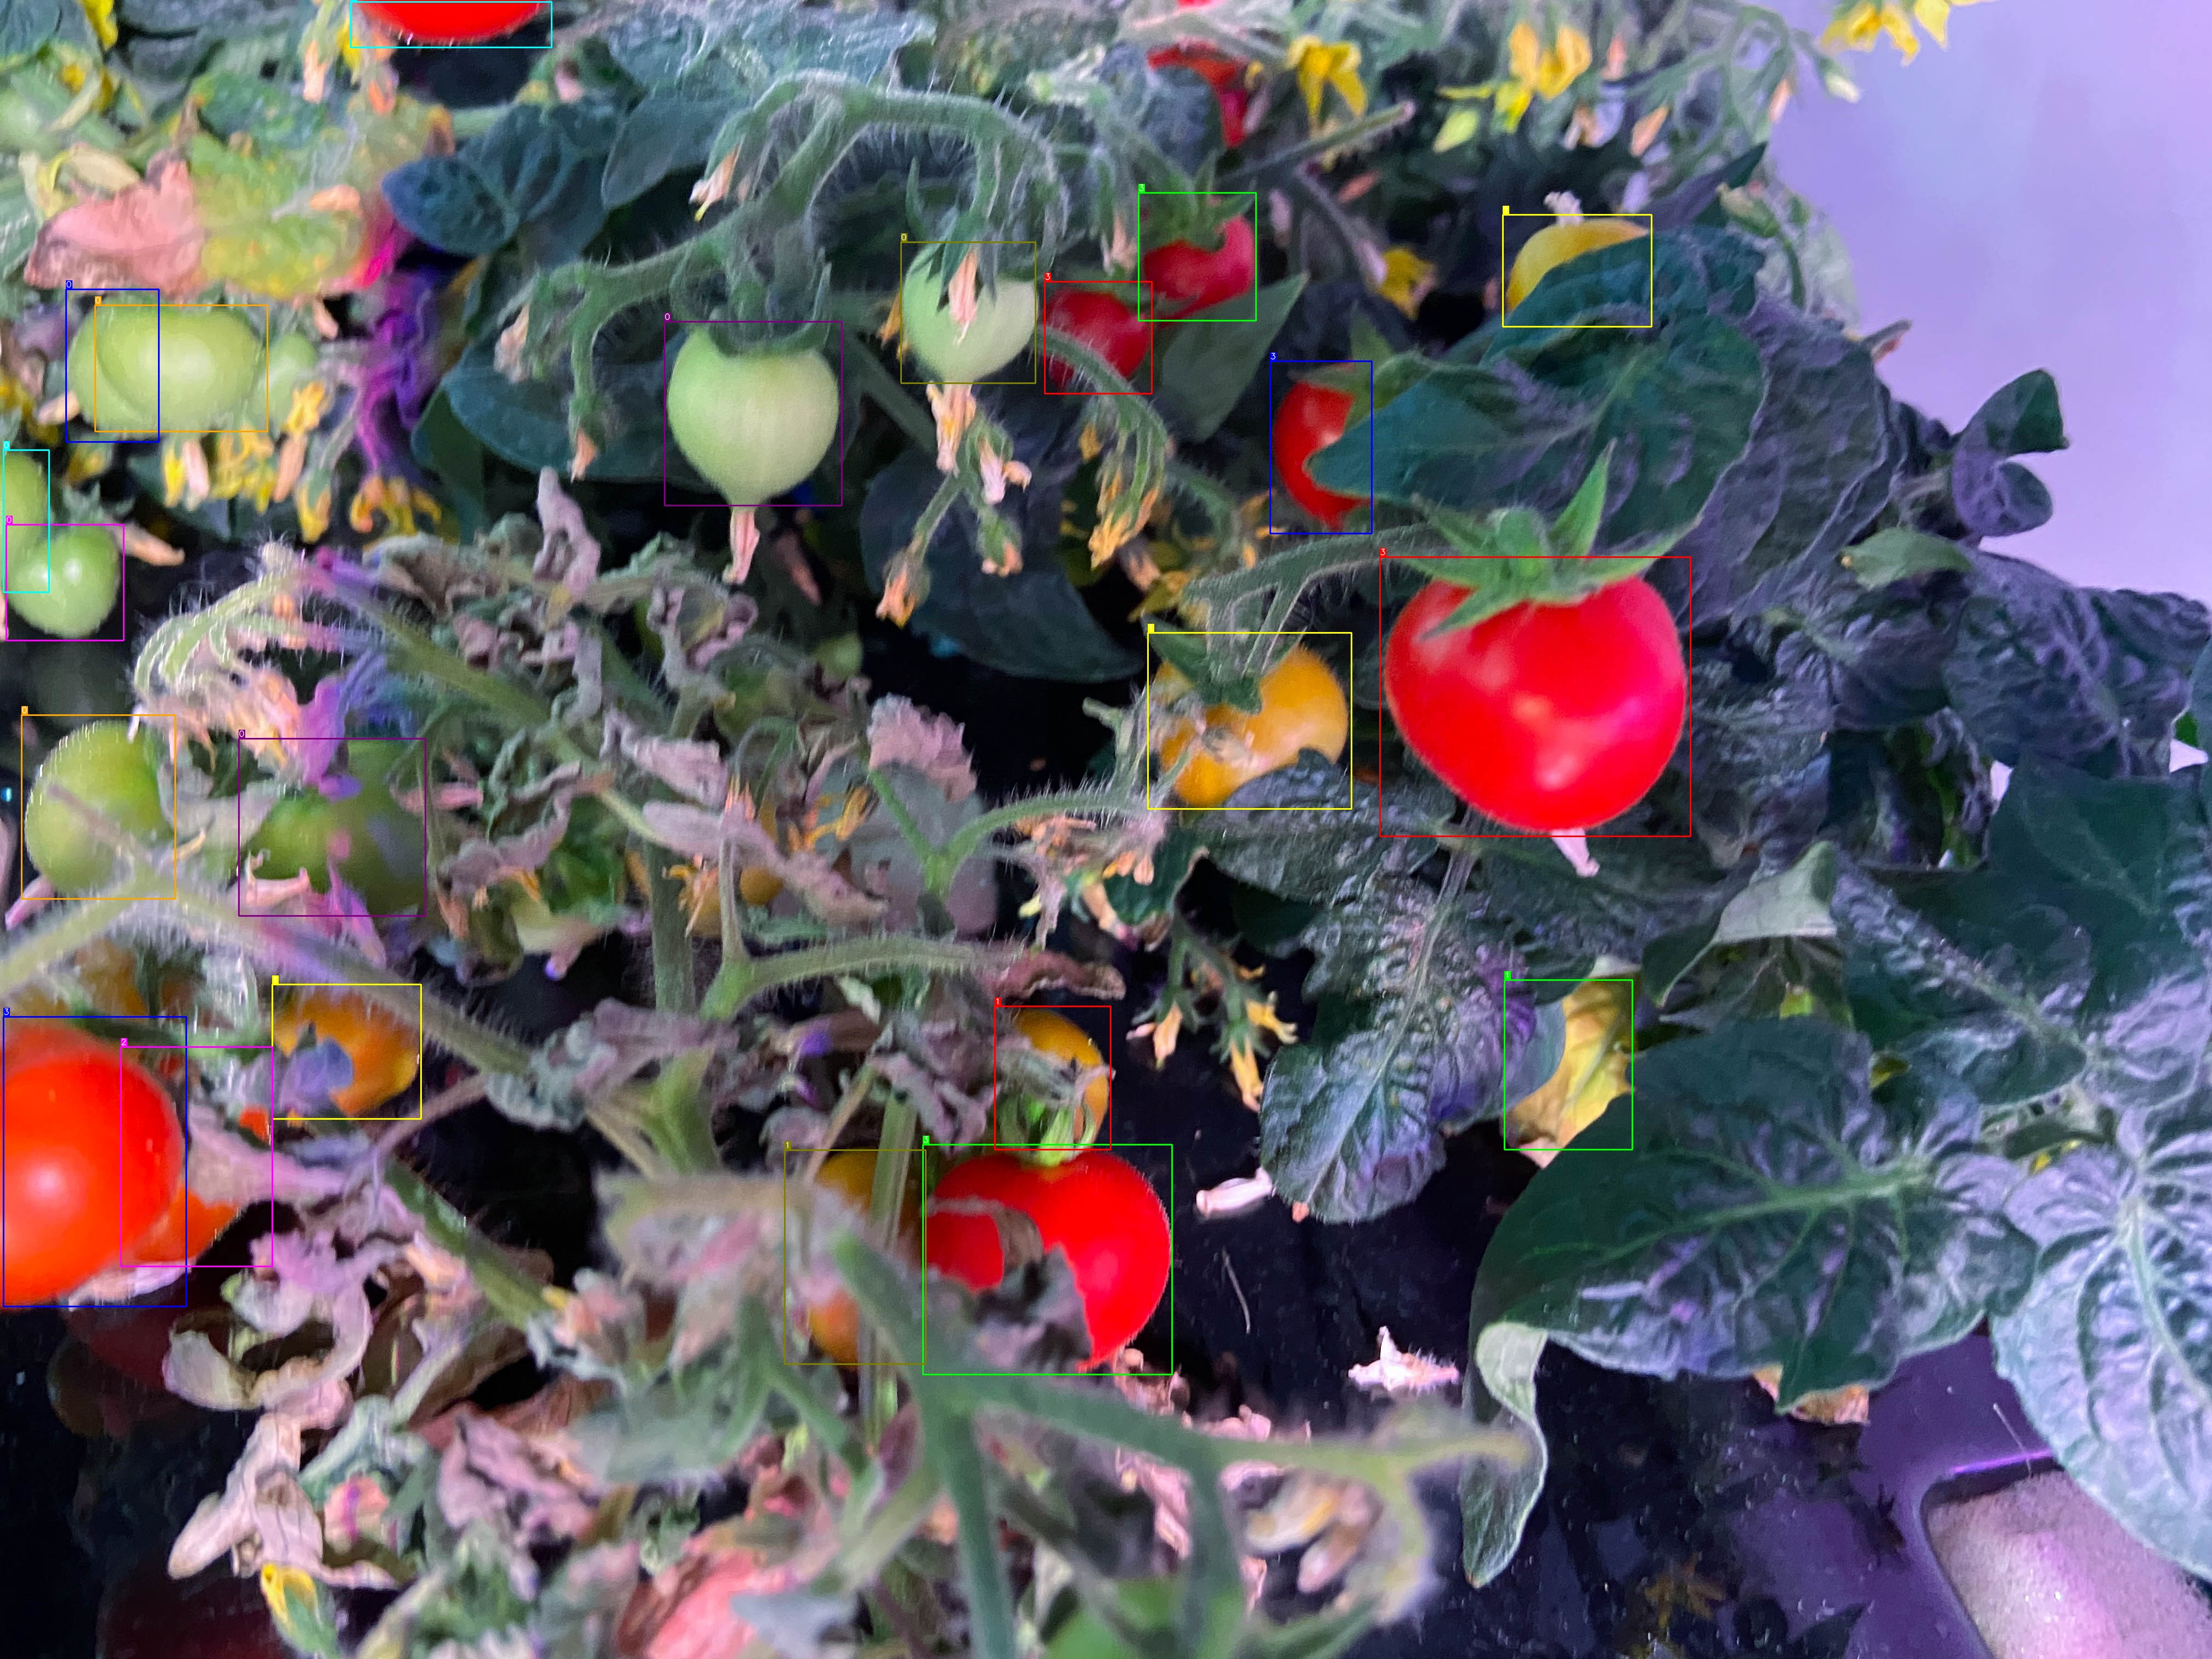MatureStage: (120, 1047, 272, 1267)
RipeStage: (1379, 558, 1691, 836), (923, 1145, 1172, 1375), (3, 1016, 186, 1307), (1270, 361, 1372, 533), (1139, 192, 1256, 321), (1045, 282, 1151, 394), (350, 2, 552, 47)
TurningStage: (1148, 633, 1352, 809), (784, 1150, 925, 1364), (1505, 981, 1632, 1150), (272, 985, 421, 1119), (995, 1006, 1111, 1150), (1503, 214, 1651, 328)
WhiteStage: (239, 739, 425, 917), (664, 321, 841, 505), (21, 714, 176, 899), (94, 305, 266, 430), (900, 242, 1035, 383), (66, 289, 158, 443), (5, 525, 124, 640), (3, 450, 49, 592)
